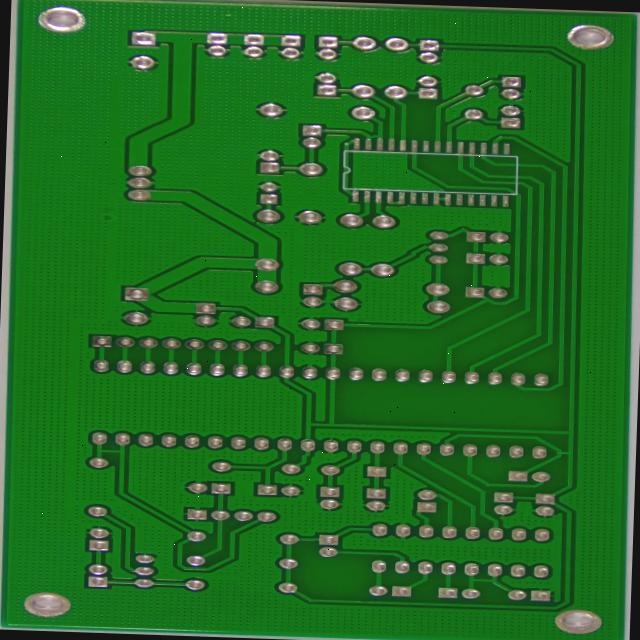short: (473, 576, 522, 596), (567, 447, 596, 464), (372, 131, 395, 142)
